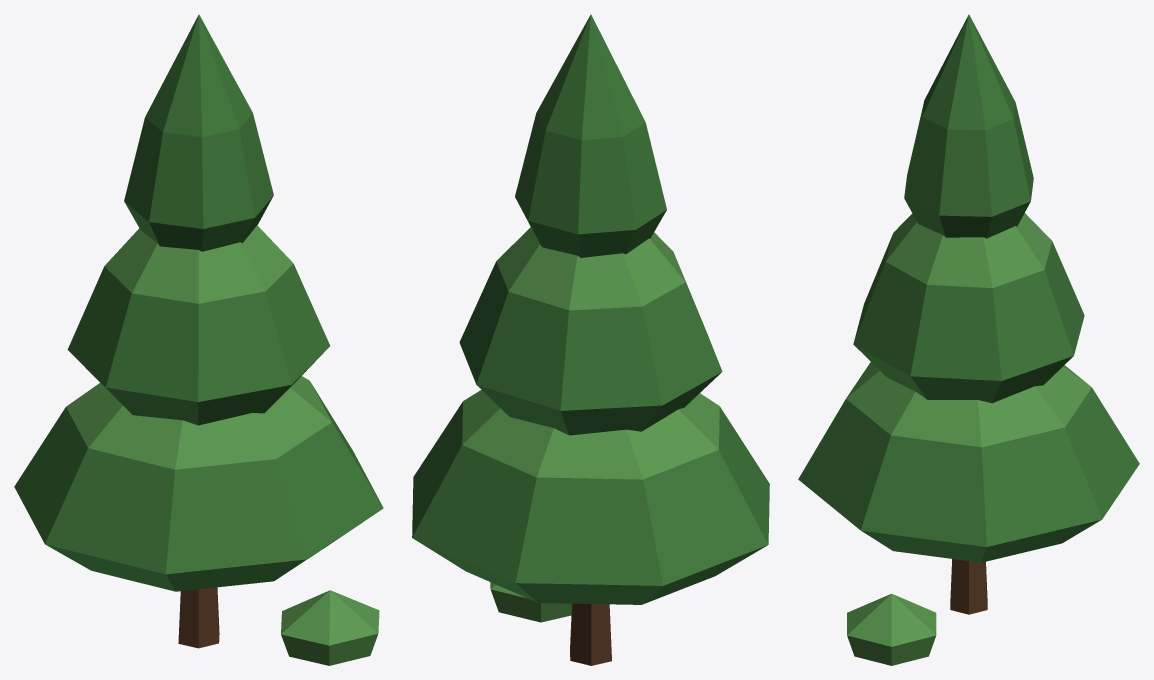
The model's file is tree.glb.
3 renders of one model, left to right at view 1: azimuth 30°, elevation 25°; view 2: azimuth 150°, elevation 25°; view 3: azimuth 270°, elevation 25°, orthographic. The views are drawn at different scales.
Visible parts, largest first — view 1: tree; view 2: tree; view 3: tree.
Part boxes in pixels (x1=…): tree: x1=14, y1=14, x2=383, y2=665; tree: x1=412, y1=14, x2=769, y2=665; tree: x1=798, y1=14, x2=1139, y2=665.
Size of the model in its own units: 0.92 by 1.68 by 0.88.
Materials: 1 (1 with a texture image).
